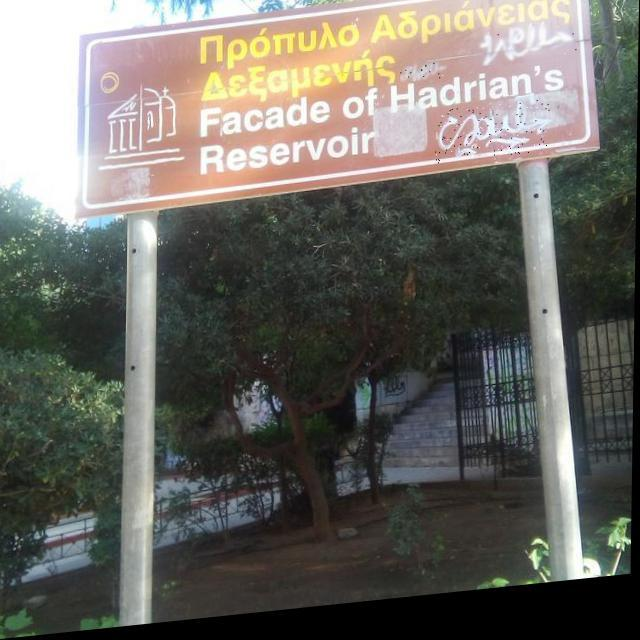-: (436, 111, 550, 173), (478, 34, 578, 77), (401, 70, 446, 92)
